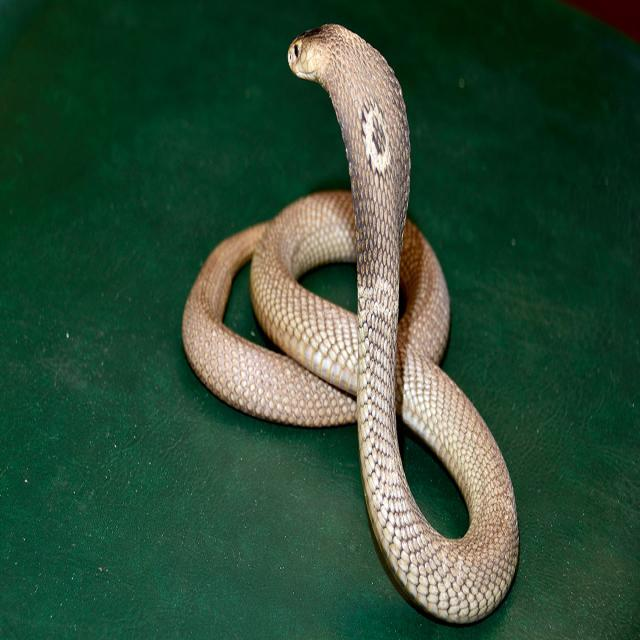Snake: (180, 21, 520, 625)
